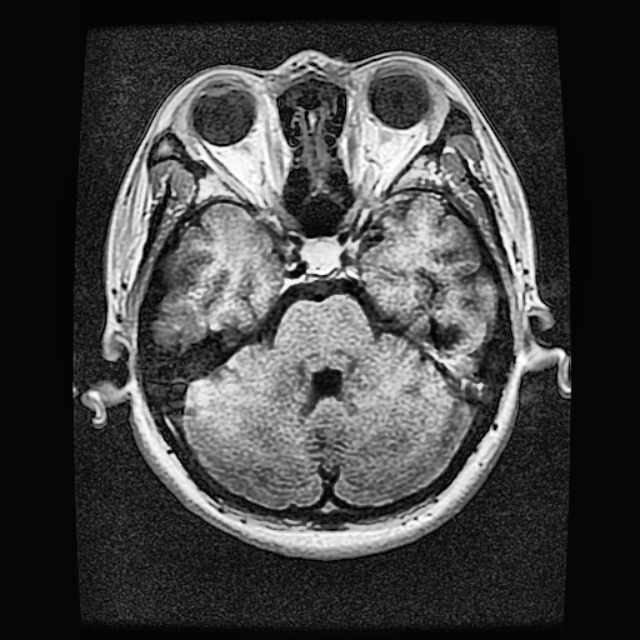Pituitary: (300, 239, 342, 272)
